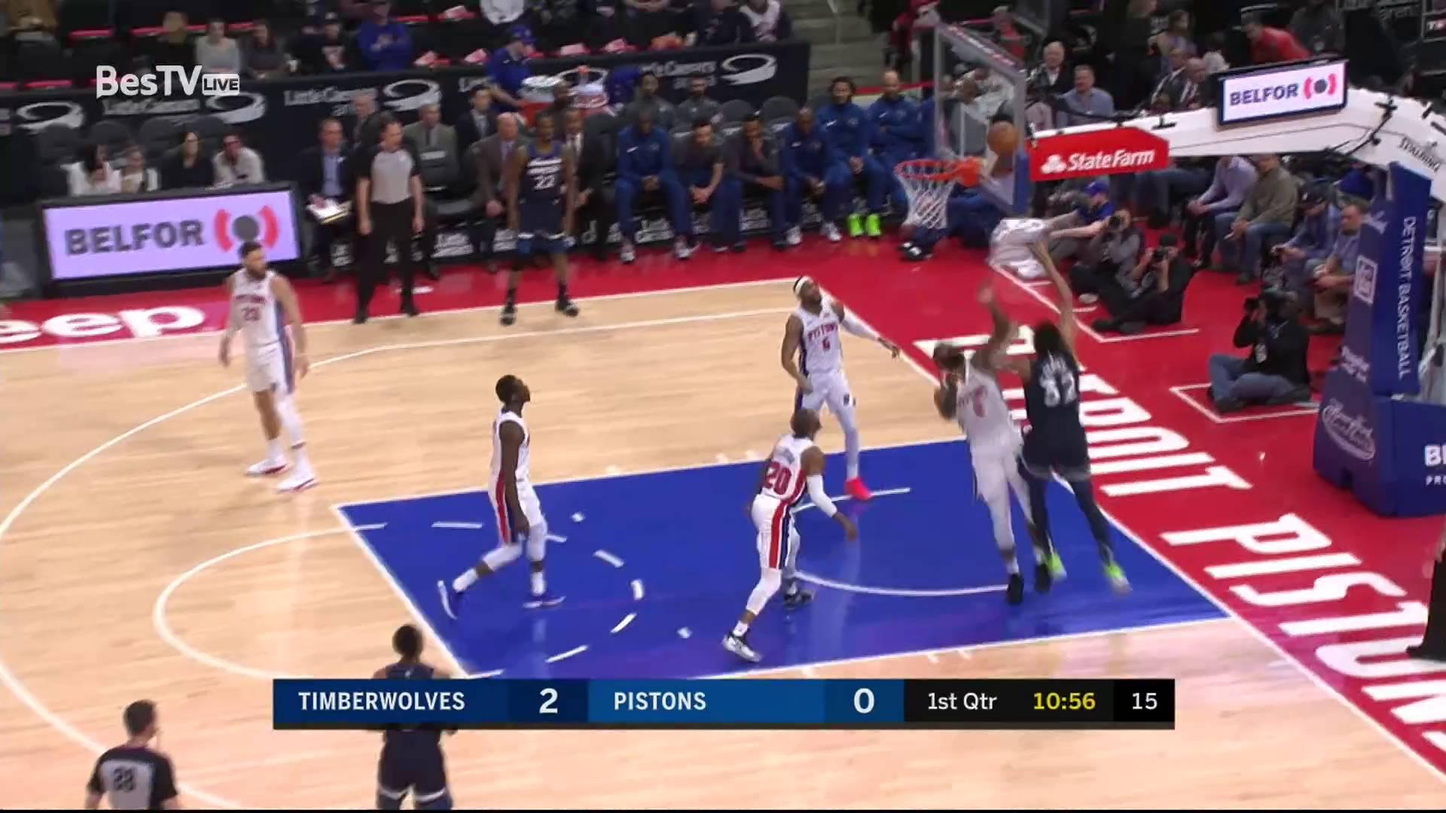basketball: (987, 122, 1022, 160)
